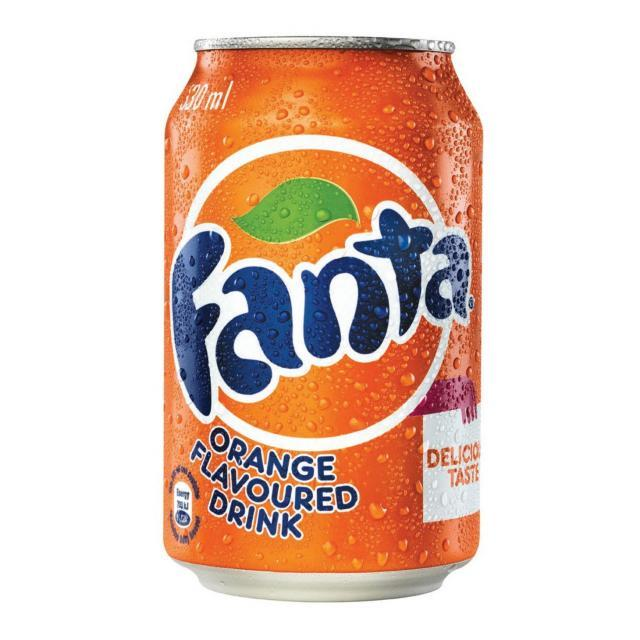Fanta: (154, 32, 489, 610)
